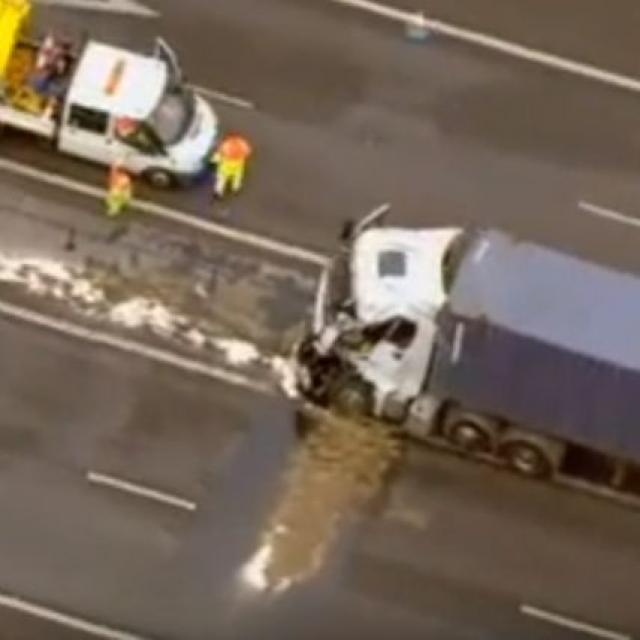traffic_incident: (284, 216, 556, 433)
